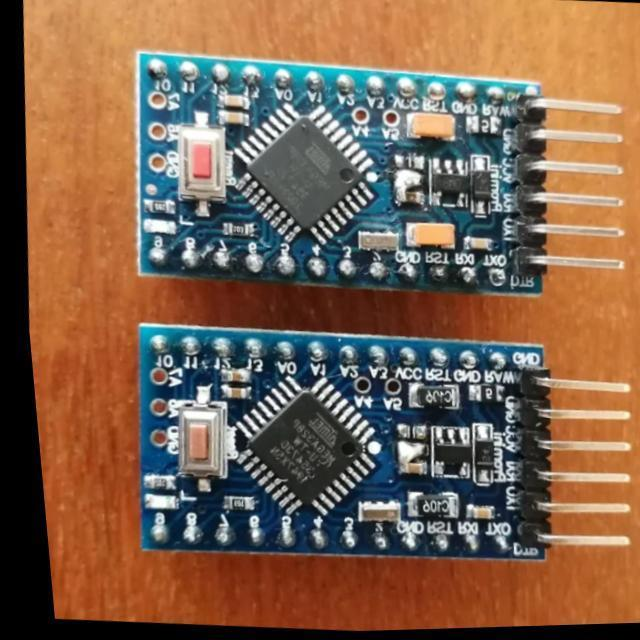Arduino-ProMini: (139, 54, 622, 294), (140, 325, 555, 560)
